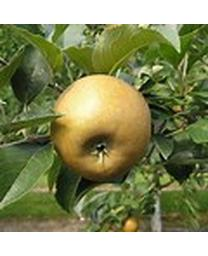apple: (50, 73, 152, 180)
